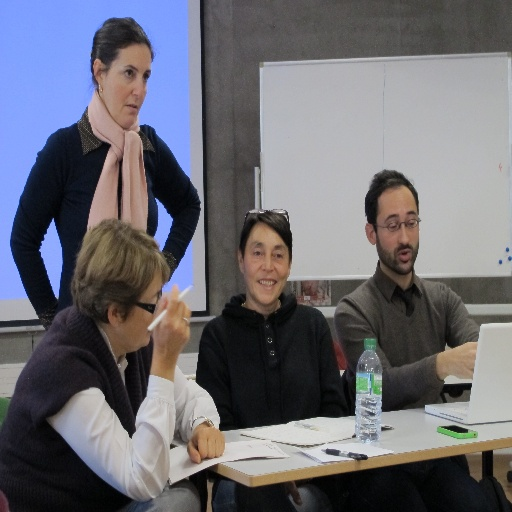hand: (140, 302, 191, 363), (187, 422, 226, 465), (446, 341, 480, 380)
